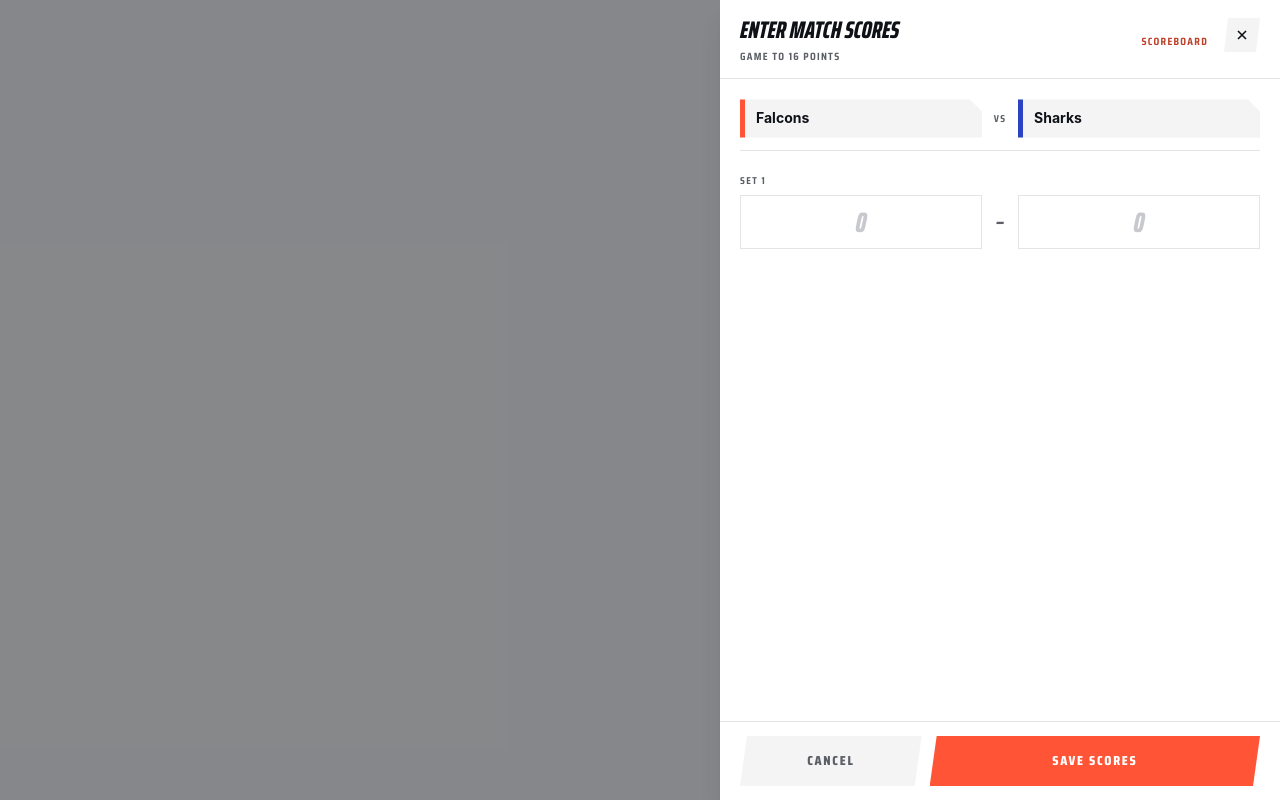
fills in the other side of a typed Mexicano score
The width and height of the screenshot is (1280, 800).
Type "10" into the 1st number field with placeholder "0". click: (861, 222)
box: left=740, top=195, right=982, bottom=249
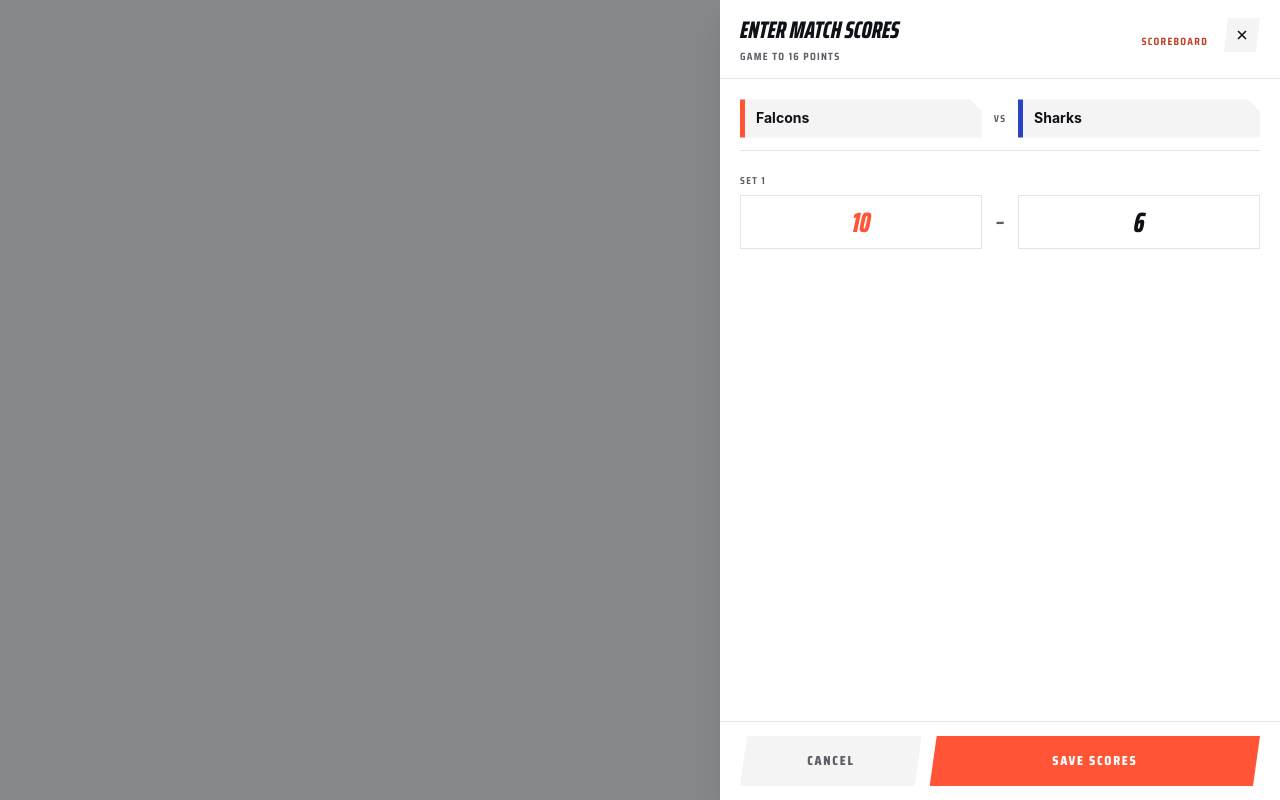
Check: the number field named "Sharks, set 1" holds "6"
Replace the text in the number field named "Sharks, set 1" with "3". click: (1139, 222)
box: left=1018, top=195, right=1260, bottom=249
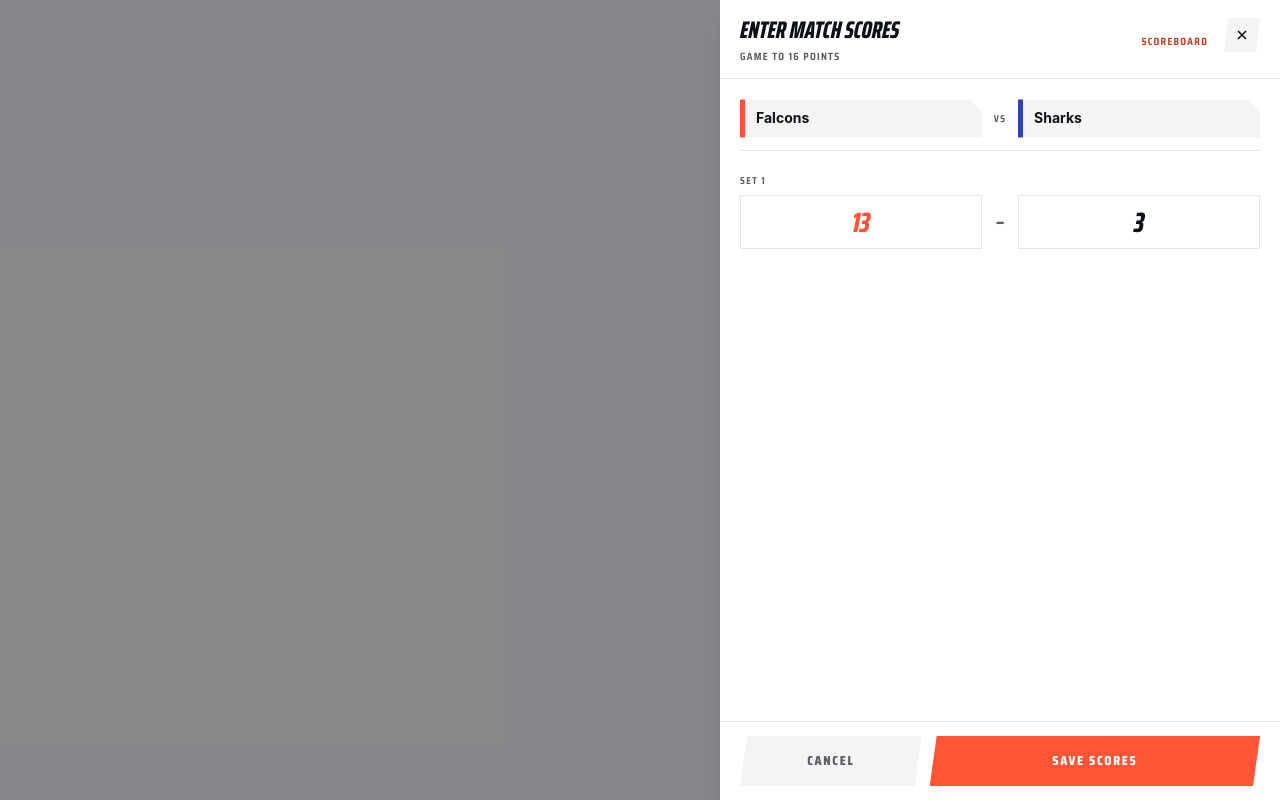
Check: the number field named "Falcons, set 1" holds "13", box left=740, top=195, right=982, bottom=249
